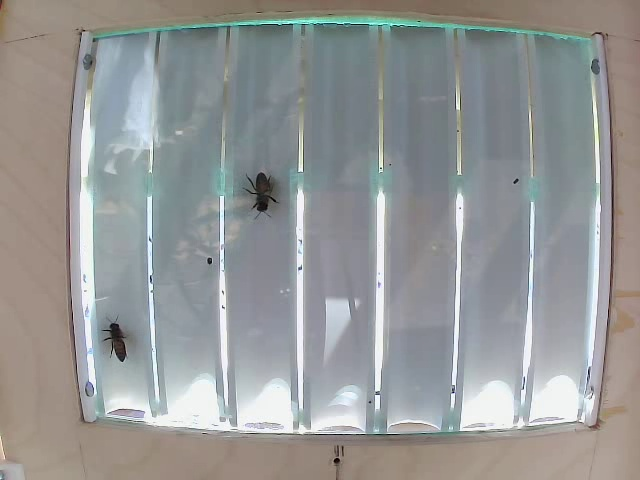bee: (242, 162, 286, 228), (98, 306, 137, 364)
